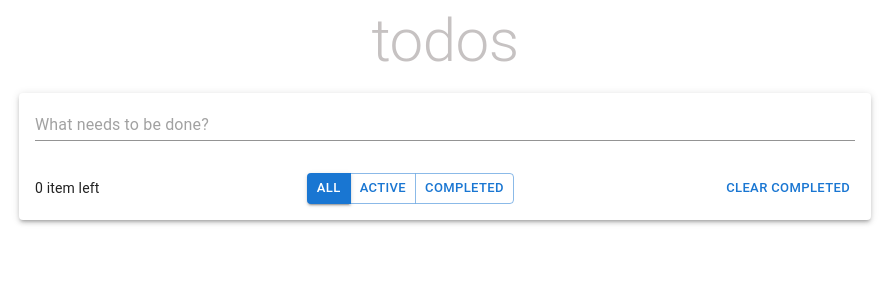
Test: ToDo App › очищает выполненные задачи
In the field with placeholder "What needs to be done?": [445, 125] box [35,109,855,141], type "Очистить эту задачу"
Then press Enter
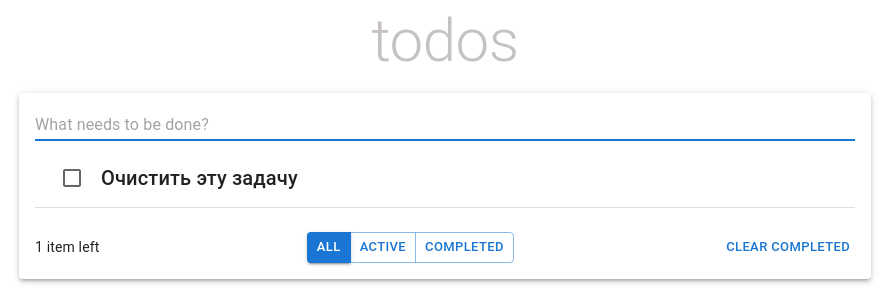
Click the checkbox: [72, 178] box [60,166,84,190]
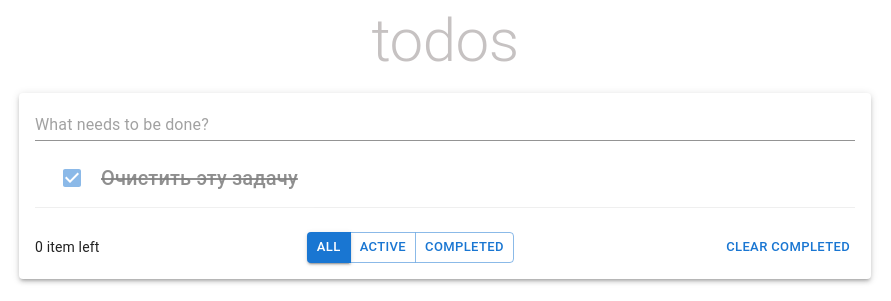
Click the button "Clear completed": [788, 247] box [721,232,855,263]
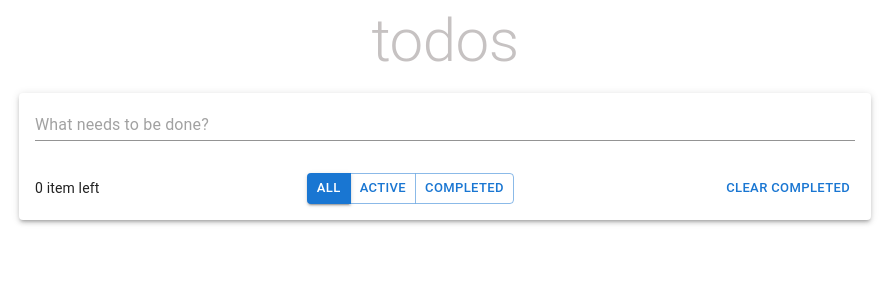
Result: the heading "Очистить эту задачу" is gone
